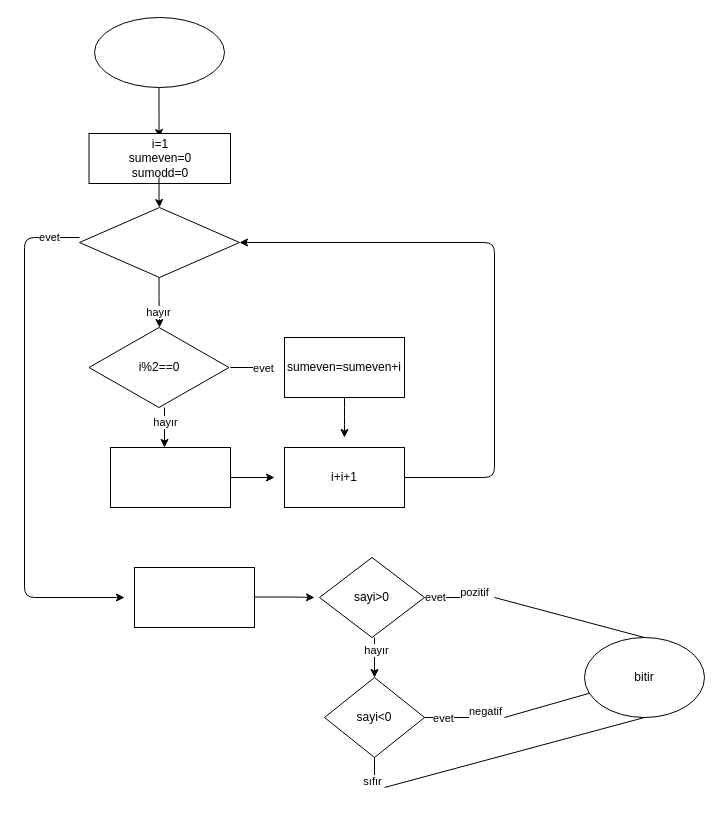
The diagram is 722 pixels wide and 818 high, and some of its shapes have lost their labels. The centre of each missing label's shape, as x and y in pixels:
basla: [159,52]
i>500: [159,242]
sayi=sumodd-sumeven: [194,597]
sumodd=sumoddd+i: [170,477]
